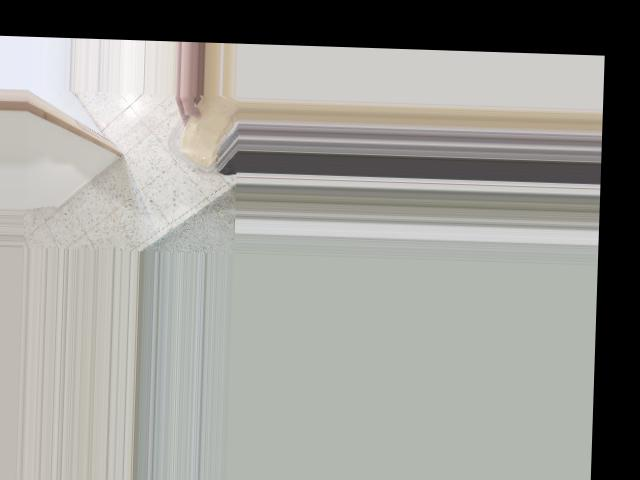cheese: (168, 92, 240, 172)
